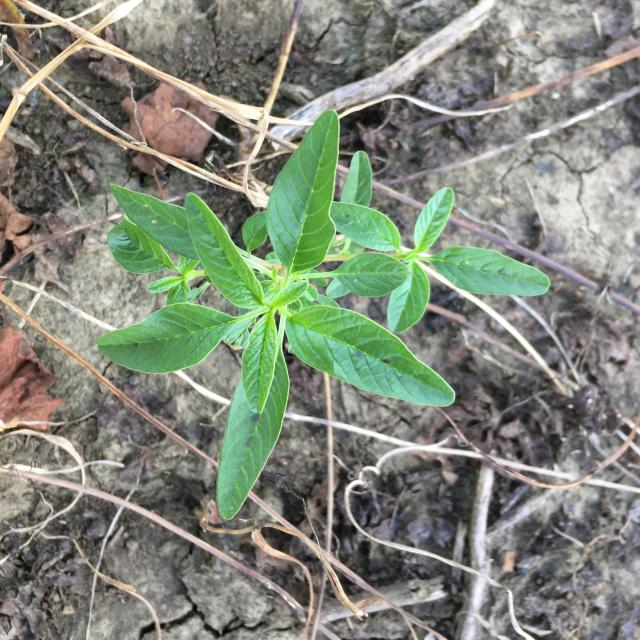Waterhemp: (95, 110, 550, 520)
